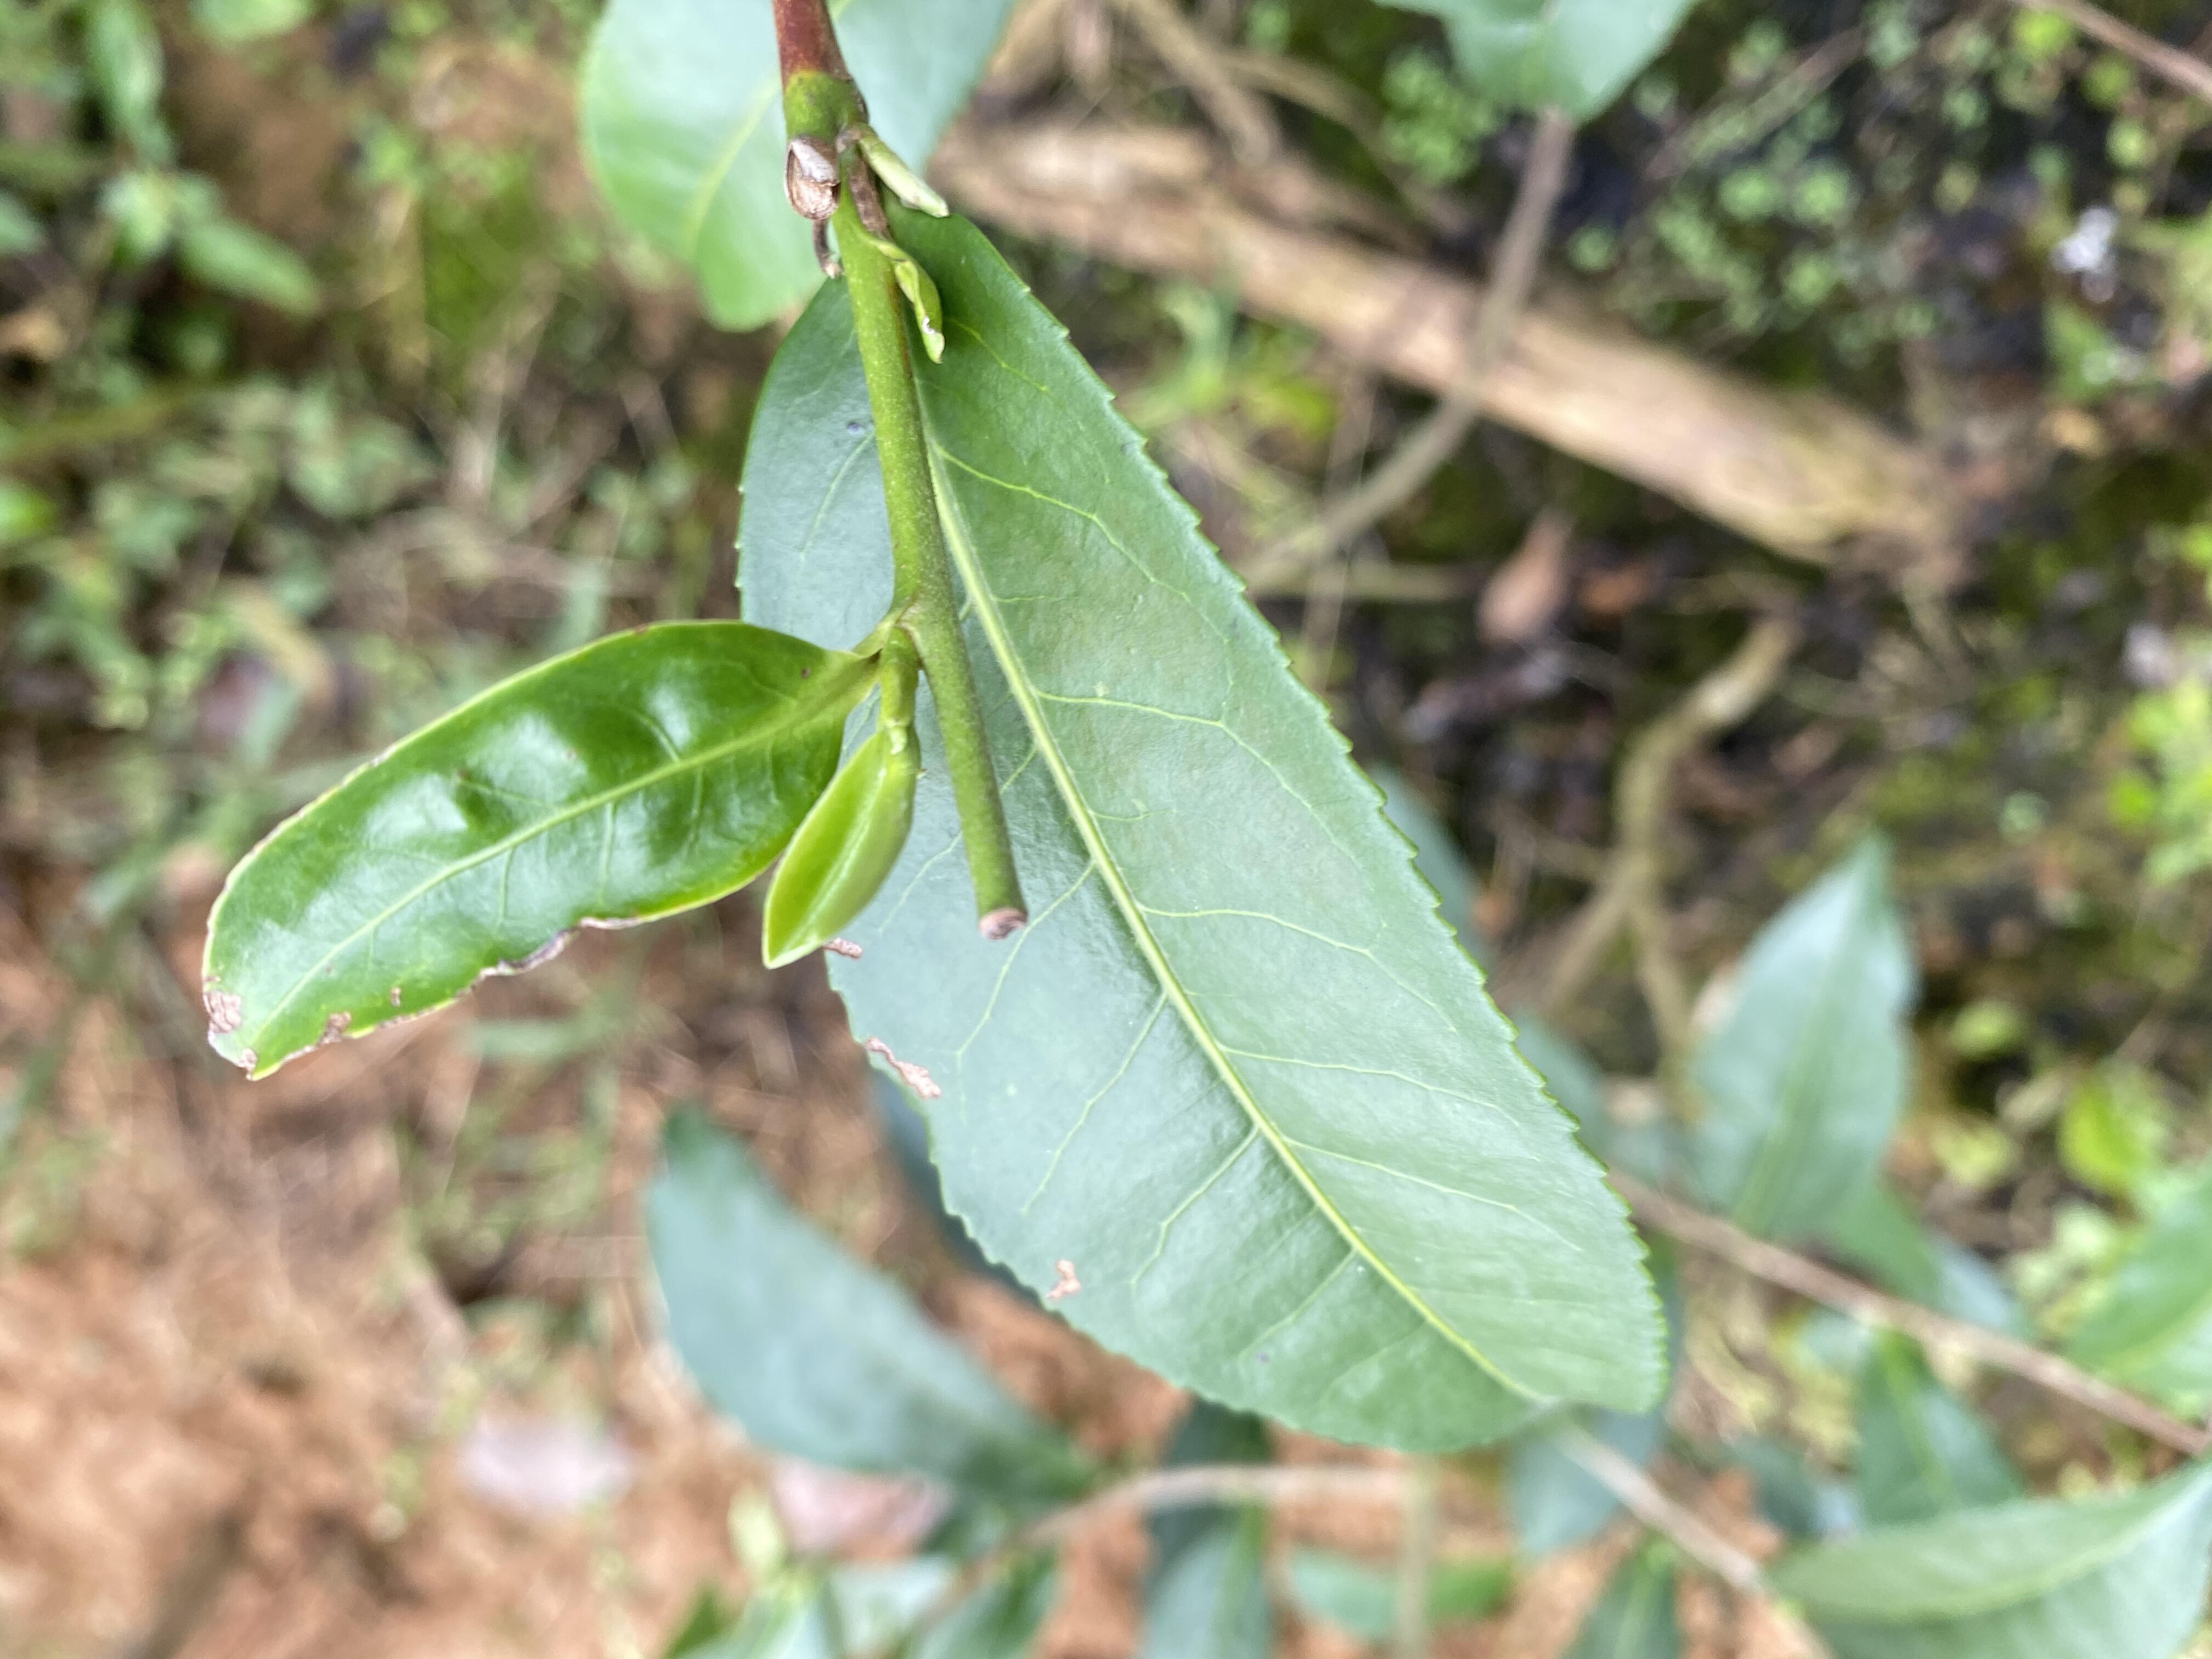tanju_low: (733, 207, 1670, 1459), (200, 617, 841, 1082)
